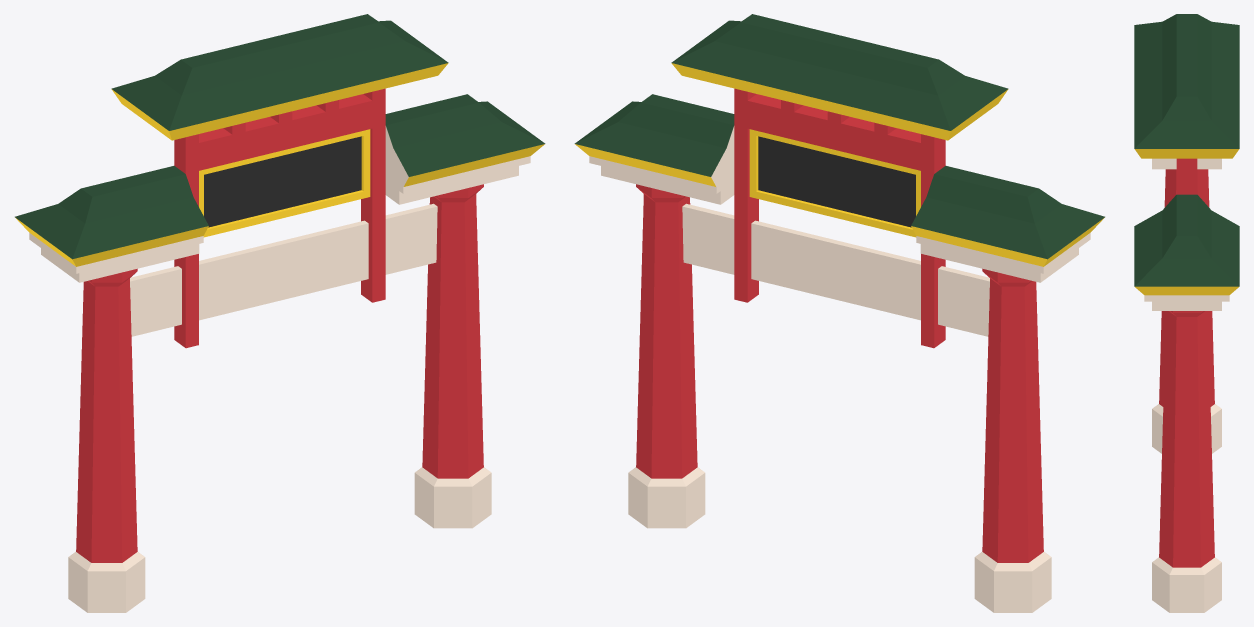
The model's file is gate-china.glb.
3 renders of one model, left to right at view 1: azimuth 30°, elevation 25°; view 2: azimuth 150°, elevation 25°; view 3: azimuth 270°, elevation 25°, orthographic. The views are drawn at different scales.
Parts seen in each view (by area): view 1: gate-china; view 2: gate-china; view 3: gate-china.
Boxes of the visible parts, x1,y1,x2,y2 form: gate-china: [15, 14, 545, 612]; gate-china: [574, 14, 1104, 612]; gate-china: [1134, 14, 1239, 612].
Bounding box in the file's own units: 7.11 × 7.4 × 1.51.
Materials: 1 (1 with a texture image).
